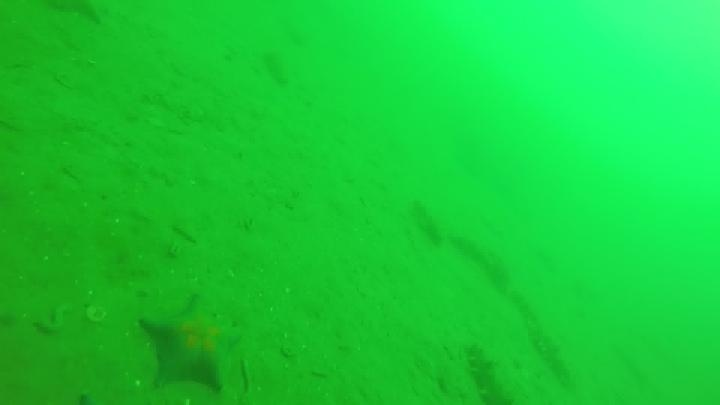holothurian: (461, 341, 514, 405)
starfish: (136, 292, 245, 397)
